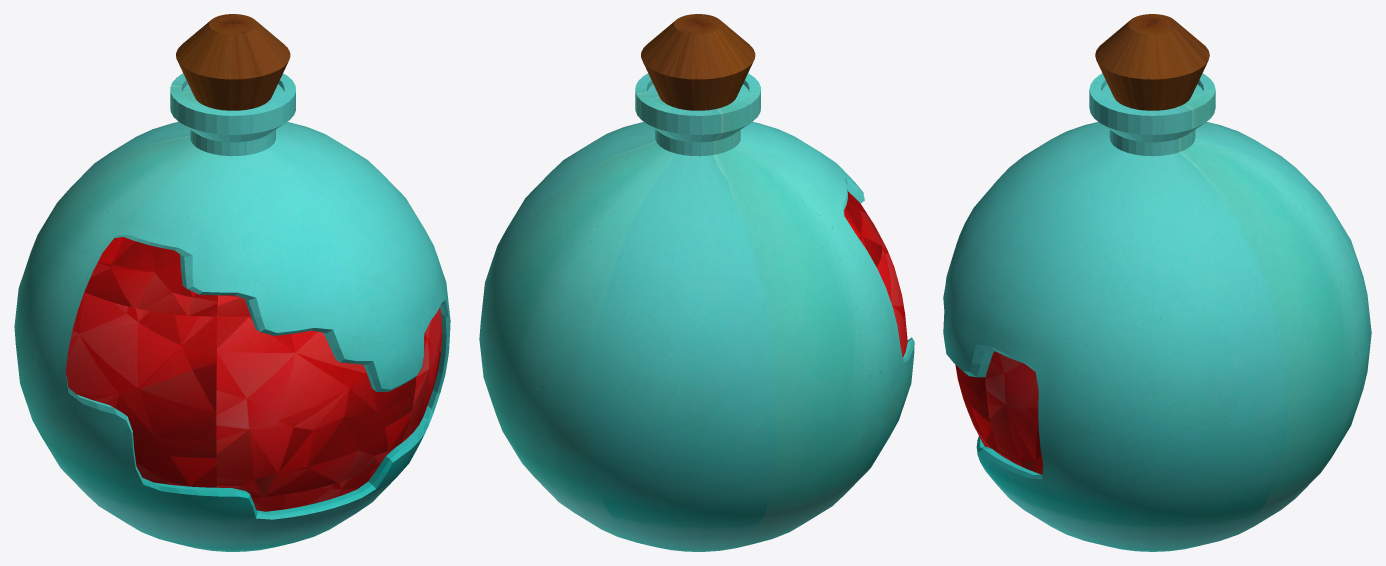
The model's file is Red Potion.fbx.
The picture shows the model from 3 angles, left to right: view 1: azimuth 30°, elevation 25°; view 2: azimuth 150°, elevation 25°; view 3: azimuth 270°, elevation 25°; orthographic projection.
Visible parts, largest first — view 1: Sphere001; view 2: Sphere001; view 3: Sphere001.
Part boxes in pixels (box(x1,y1,x2,y2)): Sphere001: box(14, 14, 450, 551); Sphere001: box(479, 14, 914, 551); Sphere001: box(943, 14, 1371, 551).
Bounding box in the file's own units: 16.32 × 20.93 × 15.94.
